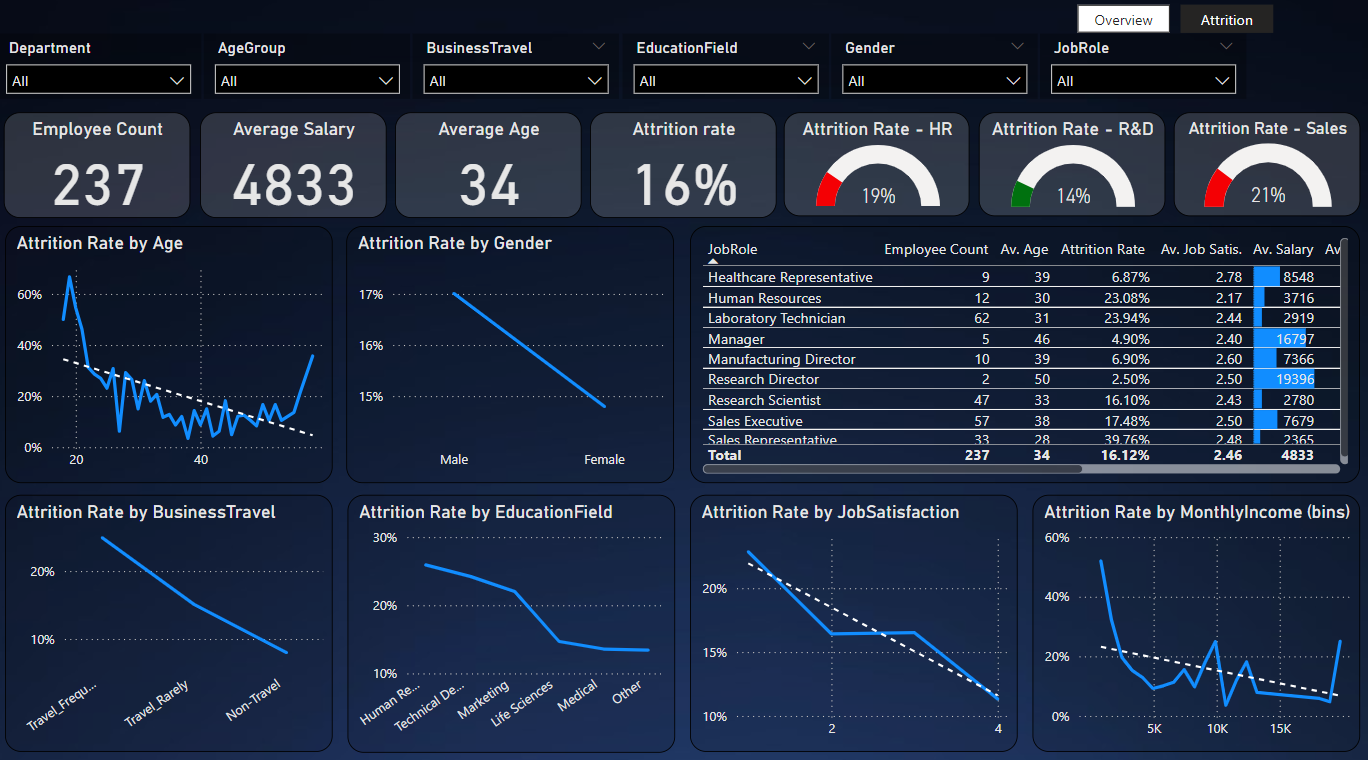

This screenshot's page, from the dashboard's own definition file:
{"tool":"powerbi","page":{"name":"Attrition","canvas":[1280,720],"ordinal":1},"visuals":[{"type":"slicer","fields":{"Values":["HR_Analytics.Department"]},"box":[0,39,192,60.7],"z":0},{"type":"card","title":"Employee Count","fields":{"Values":["HR_Analytics.Employee Count"]},"box":[8.7,112.7,173.4,98.2],"z":1000},{"type":"slicer","fields":{"Values":["HR_Analytics.AgeGroup"]},"box":[194.3,39,192.1,60.7],"z":2000},{"type":"slicer","fields":{"Values":["HR_Analytics.BusinessTravel"]},"box":[388.8,39,192.1,60.7],"z":3000},{"type":"slicer","fields":{"Values":["HR_Analytics.EducationField"]},"box":[583.3,39,192.1,60.7],"z":4000},{"type":"slicer","fields":{"Values":["HR_Analytics.Gender"]},"box":[777.8,39,192.1,60.7],"z":5000},{"type":"slicer","fields":{"Values":["HR_Analytics.JobRole"]},"box":[972.3,39,192.1,60.7],"z":6000},{"type":"card","title":"Average Age","fields":{"Values":["HR_Analytics.Average Age"]},"box":[371.8,112.7,173.4,98.2],"z":7000},{"type":"card","title":"Average Salary","fields":{"Values":["HR_Analytics.Average Salary"]},"box":[190.2,112.7,173.4,98.2],"z":8000},{"type":"card","title":"Attrition rate","fields":{"Values":["HR_Analytics.Attrition Rate "]},"box":[553.3,112.7,173.4,98.2],"z":9000},{"type":"tableEx","fields":{"Values":["HR_Analytics.JobRole","HR_Analytics.Employee Count","HR_Analytics.Average Age","HR_Analytics.Attrition Rate ","HR_Analytics.Average Job Satisfaction","HR_Analytics.Average Salary","HR_Analytics.Average Salary Hike","HR_Analytics.Gender Ratio","HR_Analytics.OverTime %","HR_Analytics.Average Years","HR_Analytics.Attrition Count"]},"box":[646.7,218.6,623.1,239.6],"z":10000},{"type":"gauge","title":"Attrition Rate - HR","fields":{"Y":["HR_Analytics.Attrition Rate "]},"box":[733.9,112.7,173,96.8],"z":11000},{"type":"gauge","title":"Attrition Rate - R&D","fields":{"Y":["HR_Analytics.Attrition Rate "]},"box":[915,112.6,173.2,96.9],"z":12000},{"type":"gauge","title":"Attrition Rate - Sales","fields":{"Y":["HR_Analytics.Attrition Rate "]},"box":[1096.9,112.6,173.2,96.9],"z":13000},{"type":"lineChart","fields":{"Y":["HR_Analytics.Attrition Rate "],"Category":["HR_Analytics.Age"]},"box":[9.2,218.6,305,239.6],"z":14000},{"type":"lineChart","fields":{"Y":["HR_Analytics.Attrition Rate "],"Category":["HR_Analytics.BusinessTravel"]},"box":[9.2,468.7,305,239.6],"z":15000},{"type":"lineChart","fields":{"Y":["HR_Analytics.Attrition Rate "],"Category":["HR_Analytics.EducationField"]},"box":[327.7,468.7,305,240],"z":16000},{"type":"lineChart","fields":{"Y":["HR_Analytics.Attrition Rate "],"Category":["HR_Analytics.Gender"]},"box":[327.3,218.6,305,239.6],"z":17000},{"type":"lineChart","fields":{"Y":["HR_Analytics.Attrition Rate "],"Category":["HR_Analytics.JobSatisfaction"]},"box":[646.2,468.7,305,239.6],"z":18000},{"type":"lineChart","fields":{"Y":["HR_Analytics.Attrition Rate "],"Category":["HR_Analytics.MonthlyIncome (bins)"]},"box":[964.8,468.7,305,239.6],"z":19000},{"type":"pageNavigator","box":[1006.8,12.7,183.1,26.8],"z":20000}]}

Visuals, with their boxes in screenshot pixels (x1, y1, x2, y2), scaled from the page's 1280x720 canvas onto the 1368x760 screenshot:
slicer - HR_Analytics.Department: [left=0, top=41, right=205, bottom=105]
"Employee Count" card: [left=9, top=119, right=195, bottom=223]
slicer - HR_Analytics.AgeGroup: [left=208, top=41, right=413, bottom=105]
slicer - HR_Analytics.BusinessTravel: [left=416, top=41, right=621, bottom=105]
slicer - HR_Analytics.EducationField: [left=623, top=41, right=829, bottom=105]
slicer - HR_Analytics.Gender: [left=831, top=41, right=1037, bottom=105]
slicer - HR_Analytics.JobRole: [left=1039, top=41, right=1244, bottom=105]
"Average Age" card: [left=397, top=119, right=583, bottom=223]
"Average Salary" card: [left=203, top=119, right=389, bottom=223]
"Attrition rate" card: [left=591, top=119, right=777, bottom=223]
tableEx - HR_Analytics.JobRole x HR_Analytics.Employee Count: [left=691, top=231, right=1357, bottom=484]
"Attrition Rate - HR" gauge: [left=784, top=119, right=969, bottom=221]
"Attrition Rate - R&D" gauge: [left=978, top=119, right=1163, bottom=221]
"Attrition Rate - Sales" gauge: [left=1172, top=119, right=1357, bottom=221]
lineChart - HR_Analytics.Attrition Rate  x HR_Analytics.Age: [left=10, top=231, right=336, bottom=484]
lineChart - HR_Analytics.Attrition Rate  x HR_Analytics.BusinessTravel: [left=10, top=495, right=336, bottom=748]
lineChart - HR_Analytics.Attrition Rate  x HR_Analytics.EducationField: [left=350, top=495, right=676, bottom=748]
lineChart - HR_Analytics.Attrition Rate  x HR_Analytics.Gender: [left=350, top=231, right=676, bottom=484]
lineChart - HR_Analytics.Attrition Rate  x HR_Analytics.JobSatisfaction: [left=691, top=495, right=1017, bottom=748]
lineChart - HR_Analytics.Attrition Rate  x HR_Analytics.MonthlyIncome (bins): [left=1031, top=495, right=1357, bottom=748]
pageNavigator: [left=1076, top=13, right=1272, bottom=42]
